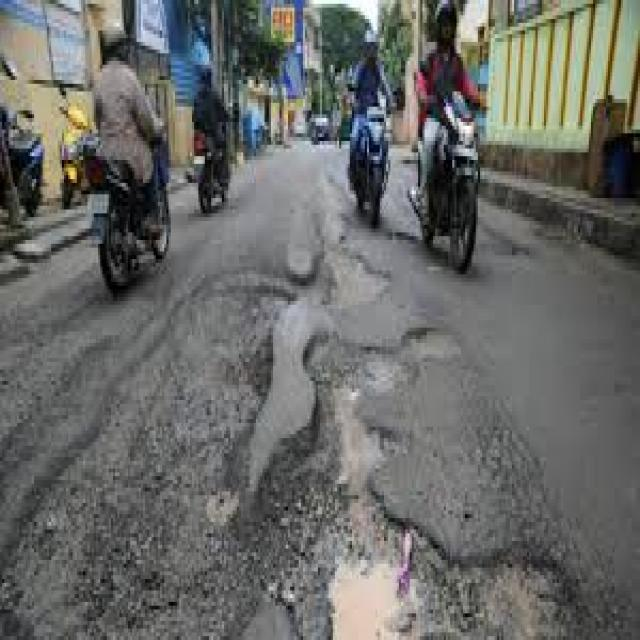Pothole: (0, 274, 640, 640)
